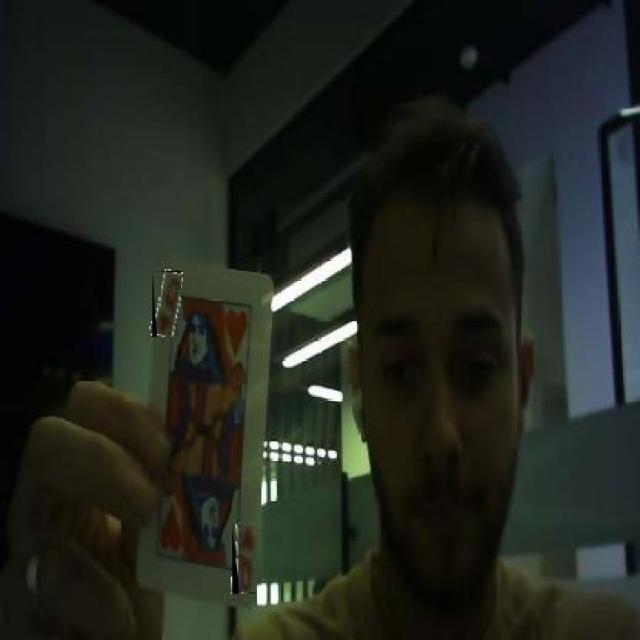QH: (152, 271, 180, 337), (232, 523, 255, 594)
